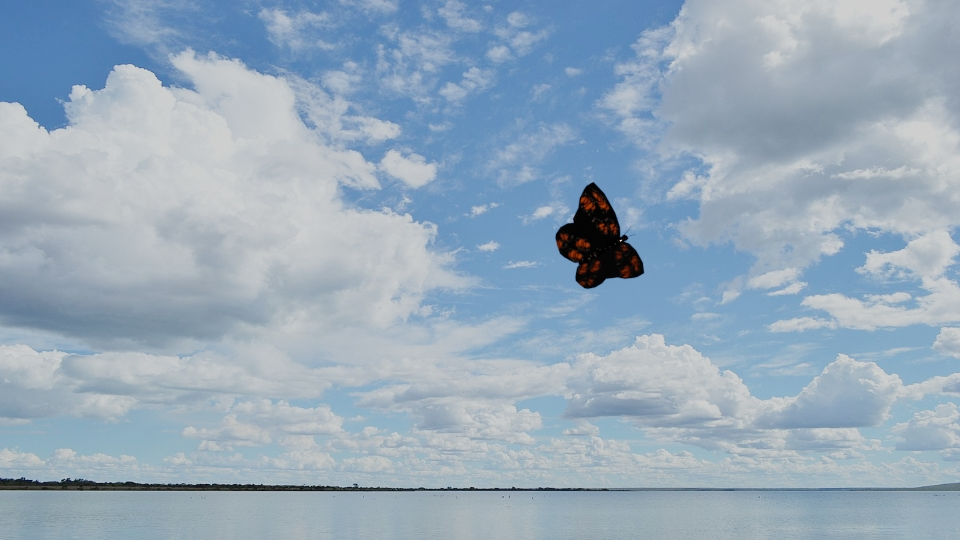insect: (555, 181, 646, 288)
